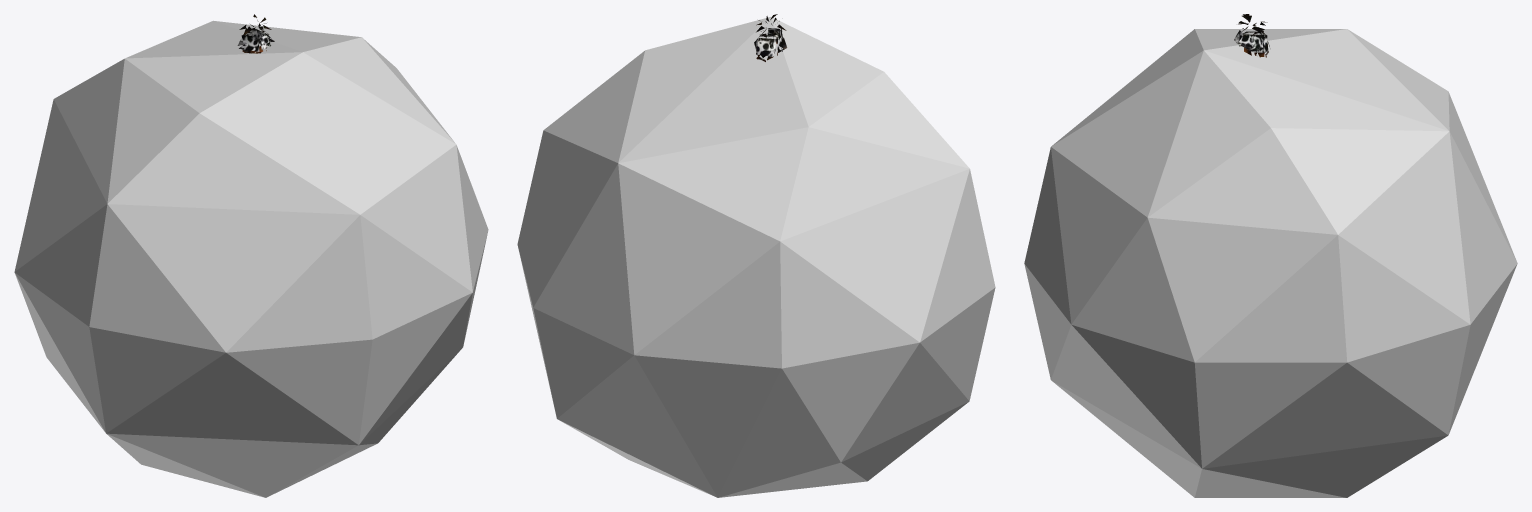
Rendered from fan01.glb.
3 views of the same model, side by side, from view 1: azimuth 30°, elevation 25°; view 2: azimuth 150°, elevation 25°; view 3: azimuth 270°, elevation 25° (orthographic).
Parts seen in each view (by area): view 1: material_proxy; view 2: material_proxy; view 3: material_proxy.
Boxes of the visible parts, x1,y1,x2,y2 form: material_proxy: (14, 14, 488, 497); material_proxy: (517, 14, 995, 497); material_proxy: (1024, 14, 1517, 497).
Size of the model in its own units: 1.9 by 2.1 by 2.
1 material, 1 textured.
